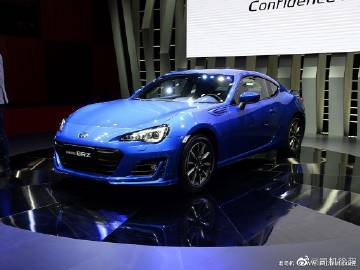other: (52, 69, 307, 189)
